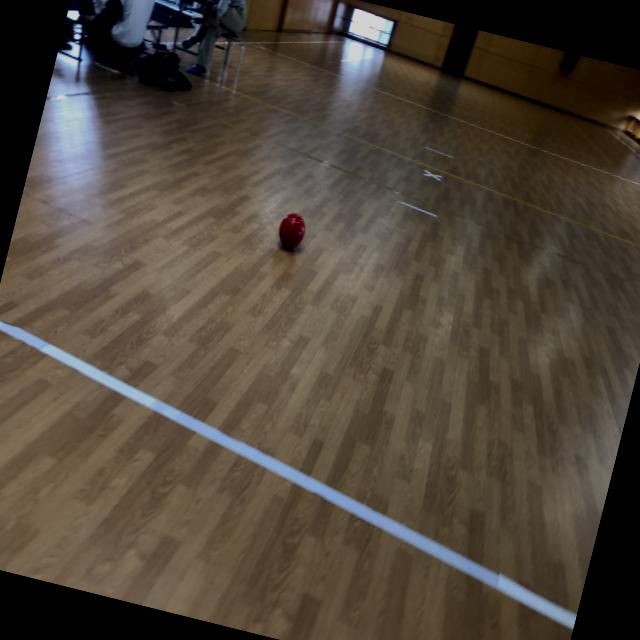red_ball: (275, 208, 309, 252)
